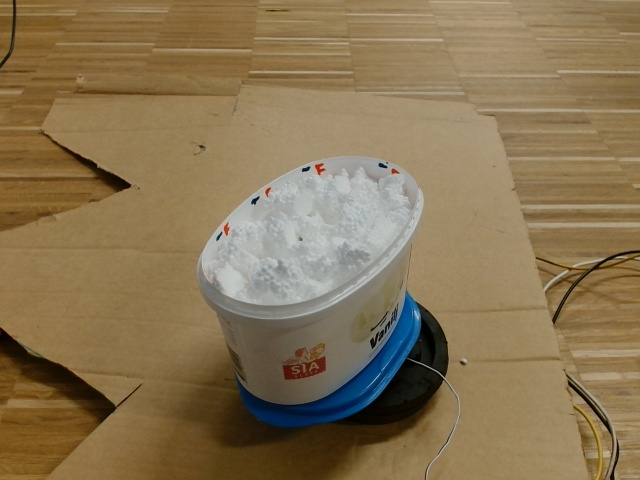Big_full: (195, 154, 424, 320)
